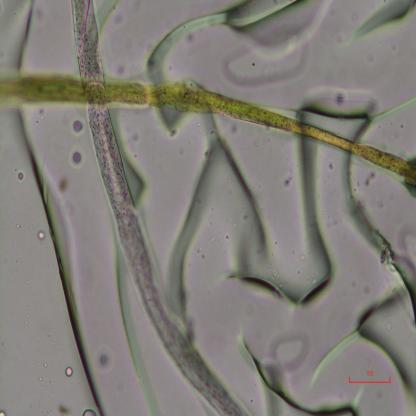Air bubble: (15, 108, 114, 415)
Background material: (186, 146, 416, 414), (124, 2, 416, 91), (6, 2, 53, 70), (70, 147, 84, 168), (69, 116, 84, 135), (82, 406, 98, 415), (64, 365, 74, 378)
Microfibre: (71, 0, 244, 416), (0, 65, 411, 186)
